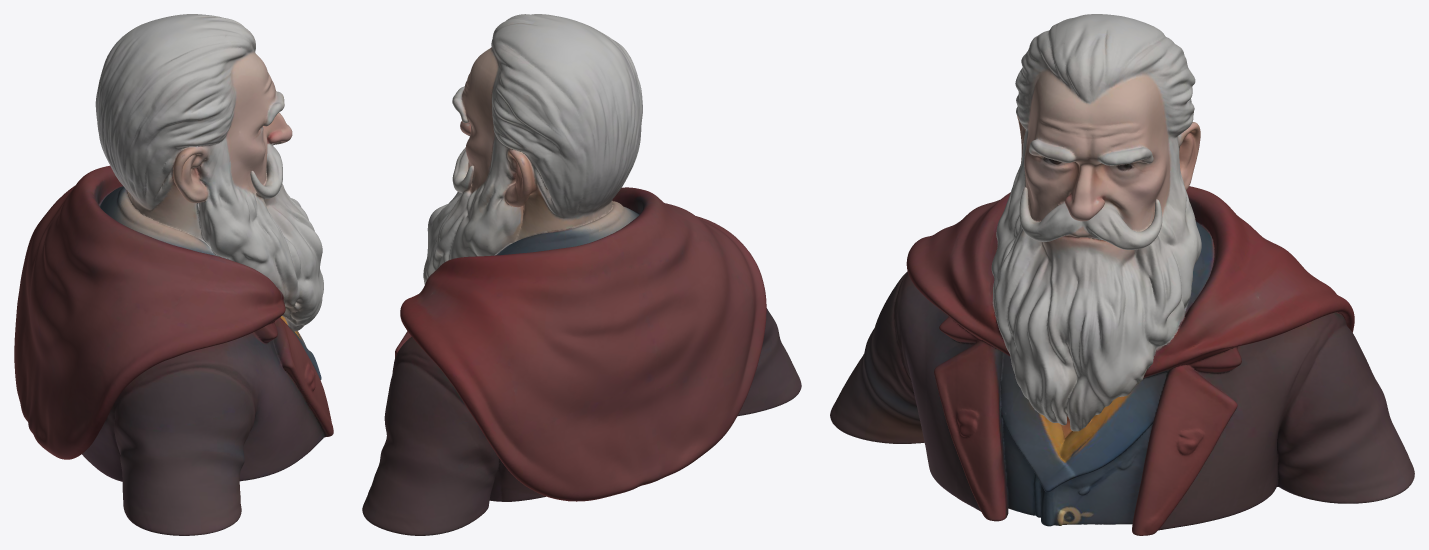
File: detailed_realistic_model_albusdumbledore_05.glb
3 renders of one model, left to right at view 1: azimuth 30°, elevation 25°; view 2: azimuth 150°, elevation 25°; view 3: azimuth 270°, elevation 25°, orthographic. The views are drawn at different scales.
Visible parts, largest first — view 1: tripo_node_f8218903-d5d4-4194-bb13-56d989ed5fe2; view 2: tripo_node_f8218903-d5d4-4194-bb13-56d989ed5fe2; view 3: tripo_node_f8218903-d5d4-4194-bb13-56d989ed5fe2.
Boxes of the visible parts, x1,y1,x2,y2 form: tripo_node_f8218903-d5d4-4194-bb13-56d989ed5fe2: (14, 14, 333, 535); tripo_node_f8218903-d5d4-4194-bb13-56d989ed5fe2: (362, 14, 801, 535); tripo_node_f8218903-d5d4-4194-bb13-56d989ed5fe2: (830, 14, 1414, 535).
Bounding box in the file's own units: 0.6096 × 0.841 × 1.
1 material, 1 textured.
